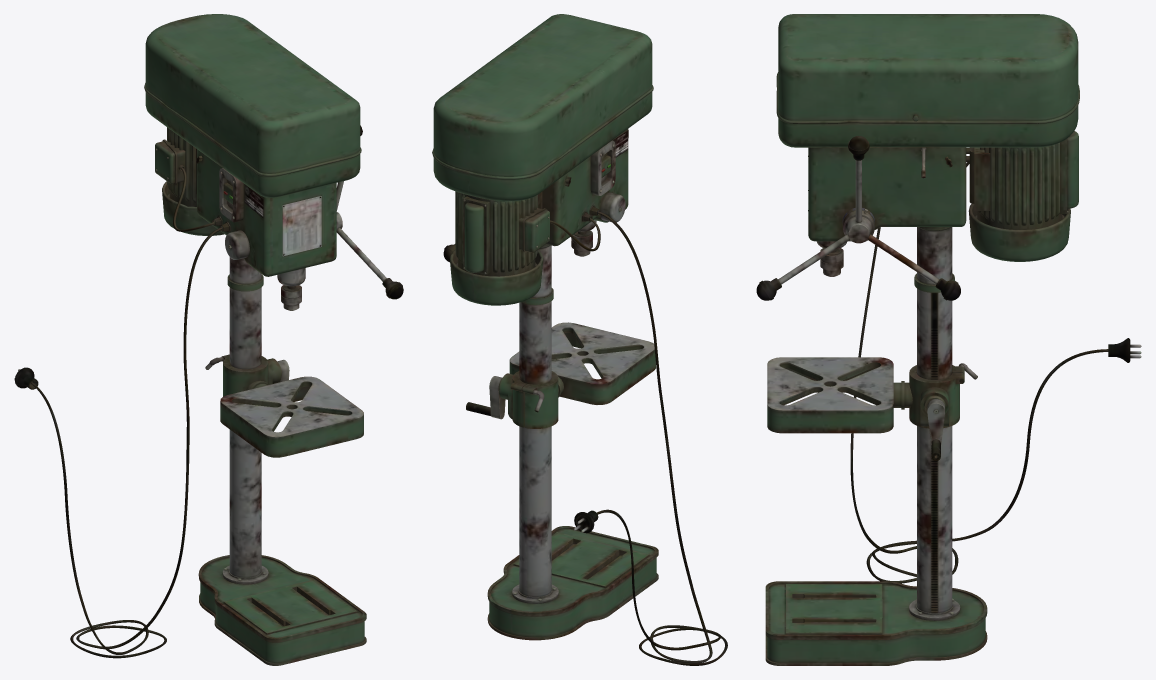
The model's file is old_drill_press.glb.
3 views of the same model, side by side, from view 1: azimuth 30°, elevation 25°; view 2: azimuth 150°, elevation 25°; view 3: azimuth 270°, elevation 25° (orthographic). The views are drawn at different scales.
Visible parts, largest first — view 1: old_drill_press, old_drill_press_cable; view 2: old_drill_press, old_drill_press_cable; view 3: old_drill_press, old_drill_press_cable.
Part boxes in pixels (left/top/right/bottom): old_drill_press: left=144, top=14, right=403, bottom=665; old_drill_press_cable: left=14, top=167, right=222, bottom=658; old_drill_press: left=432, top=14, right=658, bottom=640; old_drill_press_cable: left=550, top=211, right=727, bottom=665; old_drill_press: left=756, top=14, right=1079, bottom=665; old_drill_press_cable: left=850, top=162, right=1141, bottom=583.
Size of the model in its own units: 0.5272 by 1.05 by 0.6095.
Materials: 1 (1 with a texture image).
